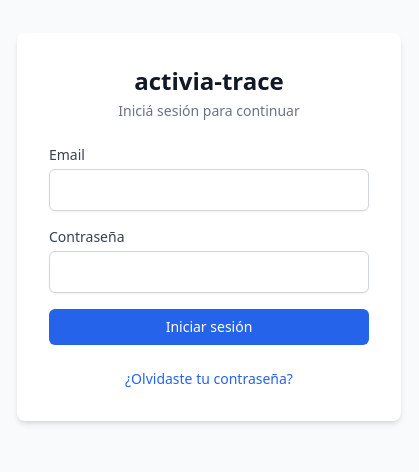
Test: LoginPage › muestra error del servidor al enviar credenciales inválidas
Type "test@example.com" into the field labelled "Email". click: (209, 190)
box: [49,169,369,211]
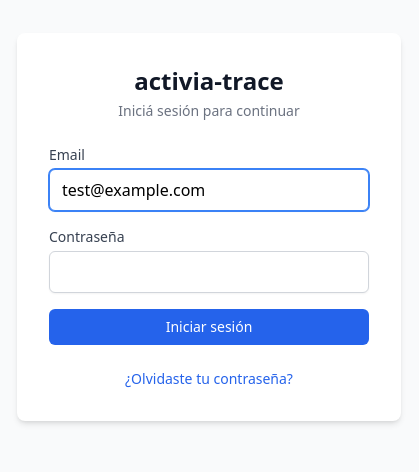
Type "wrong-password" into the password field labelled "Contraseña". click: (209, 272)
box: [49,251,369,293]
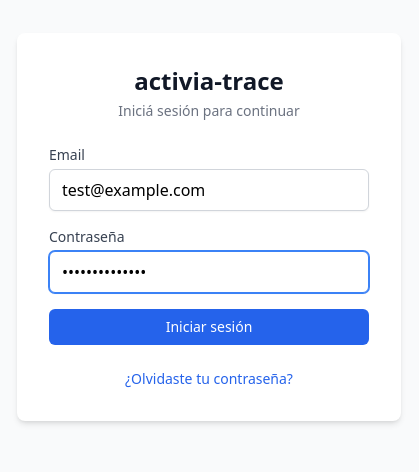
Click the button "Iniciar sesión". click: click(209, 327)
box: [49,309,369,345]
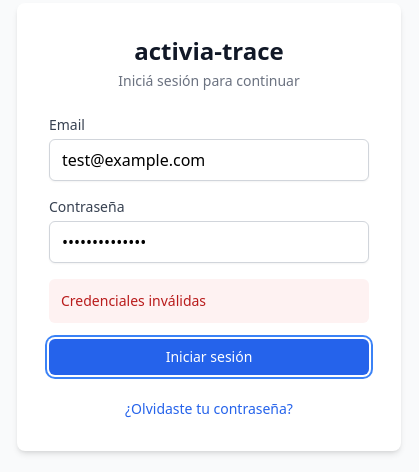
Now the text "Credenciales inválidas" is shown, box [49,279,369,323]
